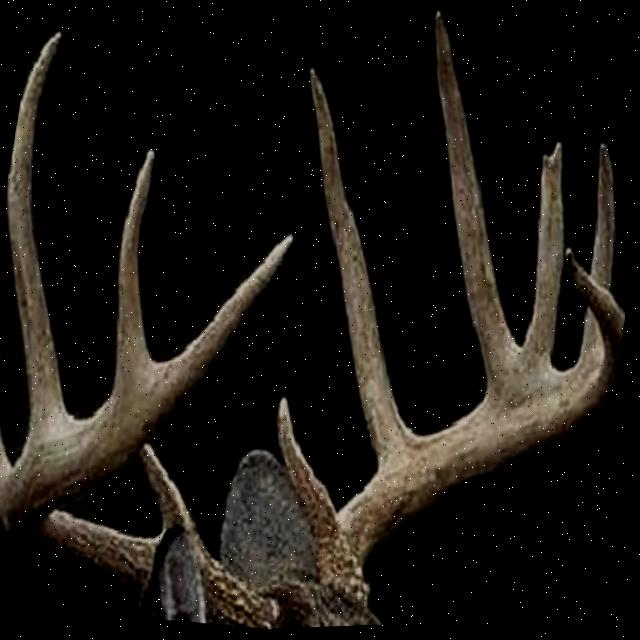L-G1: (142, 443, 215, 555)
L-G2: (0, 396, 16, 523)
L-G3: (8, 29, 78, 445)
L-G4: (116, 143, 158, 396)
R-G1: (279, 396, 347, 552)
R-G2: (310, 64, 422, 470)
R-G3: (434, 11, 556, 396)
R-G4: (526, 142, 568, 368)
